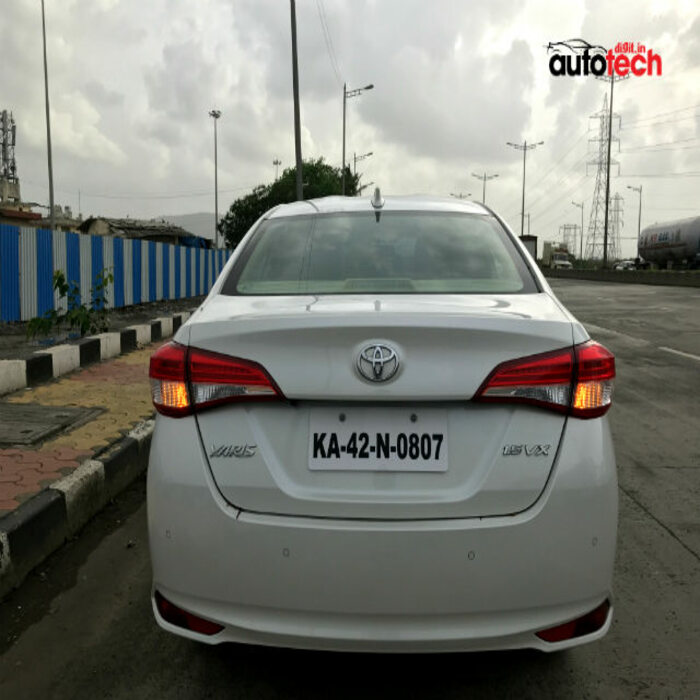n: (309, 411, 448, 467)
